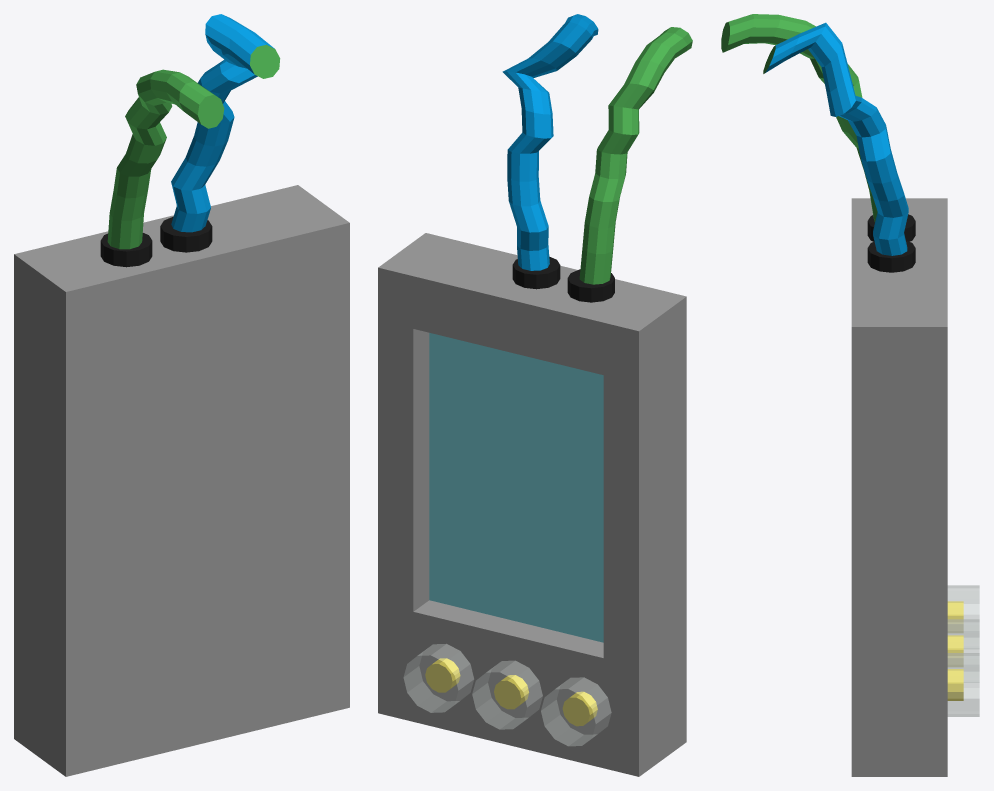
The model's file is Biometric Scanner.glb.
The picture shows the model from 3 angles, left to right: view 1: azimuth 30°, elevation 25°; view 2: azimuth 150°, elevation 25°; view 3: azimuth 270°, elevation 25°; orthographic projection. The views are drawn at different scales.
Visible parts, largest first — view 1: group1892193414; view 2: group1892193414, group593164581, group1277280098, group2027047789; view 3: group1892193414, group593164581, group1277280098, group2027047789.
Part boxes in pixels (left/top/right/bottom): group1892193414: left=14, top=14, right=349, bottom=776; group1892193414: left=378, top=14, right=692, bottom=776; group593164581: left=403, top=644, right=473, bottom=712; group1277280098: left=541, top=677, right=611, bottom=746; group2027047789: left=472, top=661, right=542, bottom=729; group1892193414: left=721, top=14, right=947, bottom=776; group593164581: left=947, top=653, right=979, bottom=716; group1277280098: left=947, top=585, right=979, bottom=648; group2027047789: left=947, top=619, right=979, bottom=682.
Size of the model in its own units: 0.19 by 0.4724 by 0.1614.
